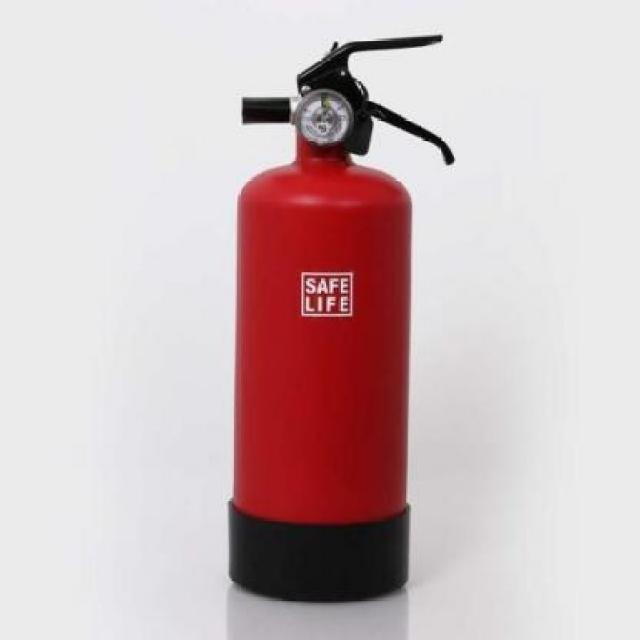fire extinguisher: (229, 35, 455, 601)
